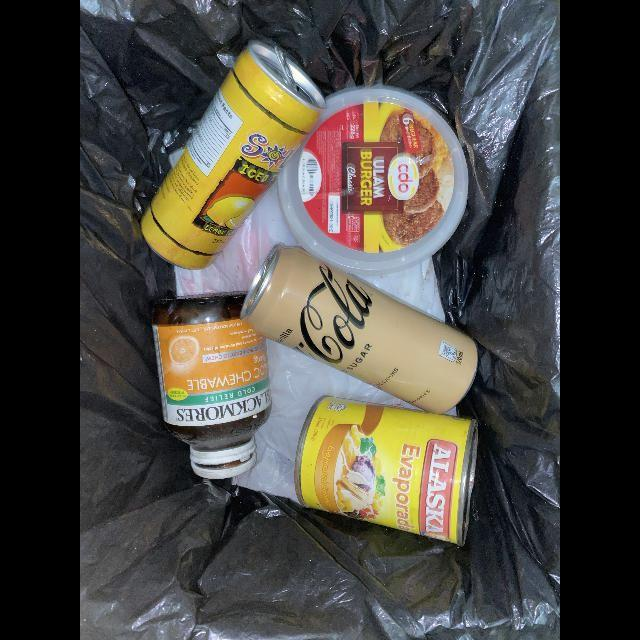aluminum: (140, 39, 325, 271), (242, 247, 480, 415), (293, 395, 479, 549)
glass_bottle: (150, 293, 272, 481)
plastic_container: (276, 85, 469, 279)
